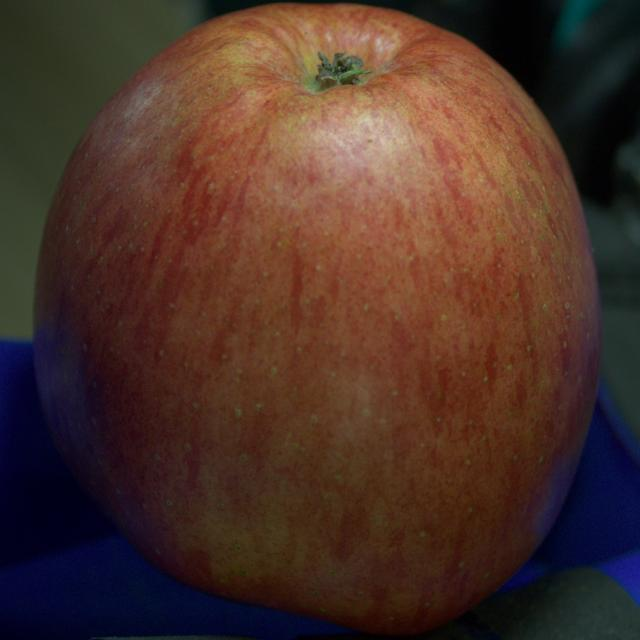apple: (32, 4, 601, 634)
